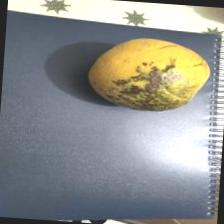Orange Rotten: (82, 30, 214, 118)
